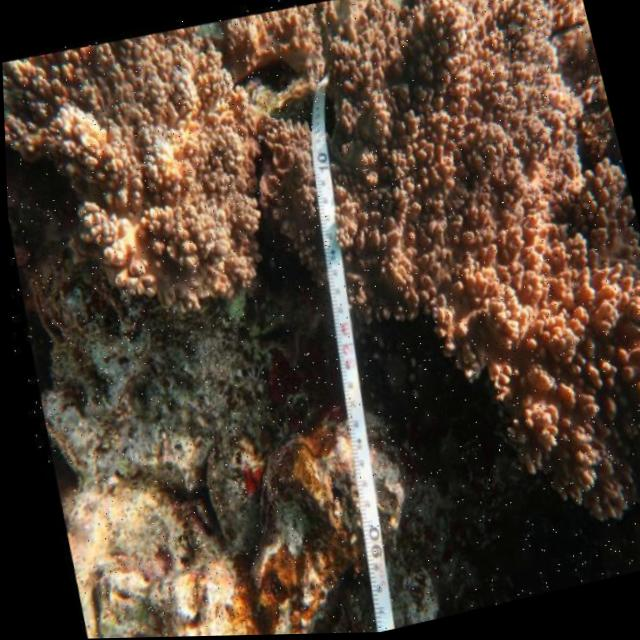Healthy Coral: (200, 0, 636, 303), (341, 215, 640, 615), (0, 10, 279, 336)
